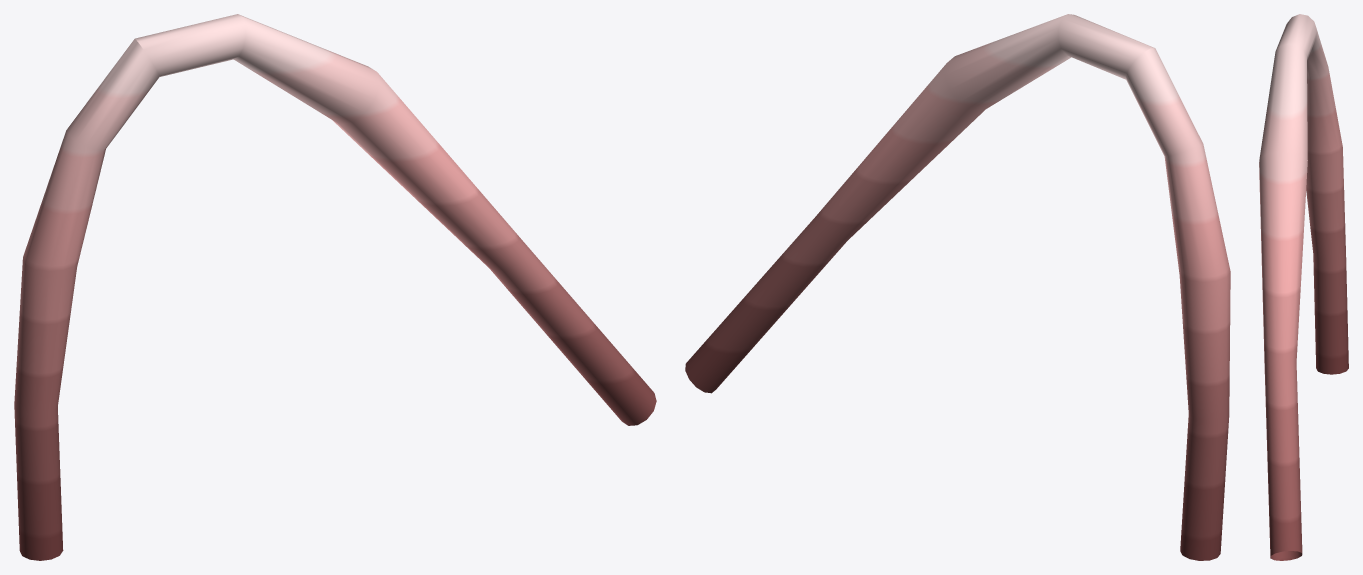
Rendered from plant_013.fbx.
3 views of the same model, side by side, from view 1: azimuth 30°, elevation 25°; view 2: azimuth 150°, elevation 25°; view 3: azimuth 270°, elevation 25° (orthographic). The views are drawn at different scales.
Visible parts, largest first — view 1: plant.013; view 2: plant.013; view 3: plant.013.
Part boxes in pixels (bbox=[...]): plant.013: bbox=[14, 14, 656, 560]; plant.013: bbox=[685, 14, 1230, 560]; plant.013: bbox=[1259, 14, 1348, 560].
Size of the model in its own units: 40.04 by 32.48 by 6.82.
